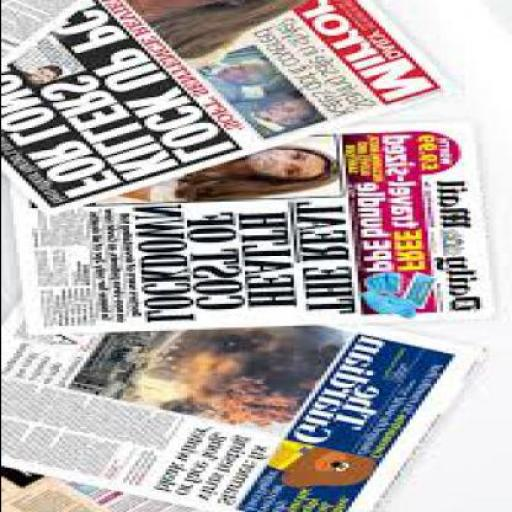paper: (21, 123, 500, 340), (2, 305, 488, 511), (3, 2, 457, 216), (2, 468, 204, 510), (3, 2, 100, 72)
